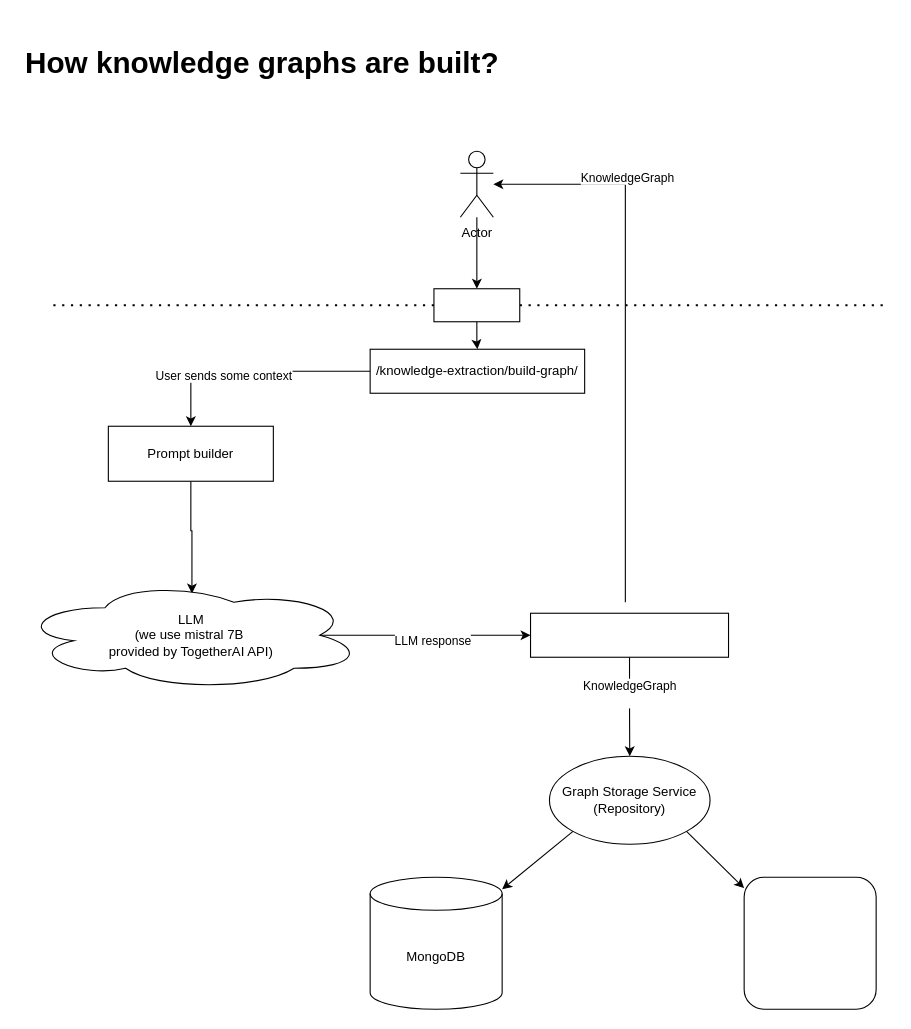
Some shapes in this 911 by 1029 pixel diagram are drawn without their labels. The centre of each missing label's shape, as x and y in pixels:
"Autorization" goes at (476,305).
"Custom JSON Parser" goes at (629,634).
"Memcached" goes at (809,942).
